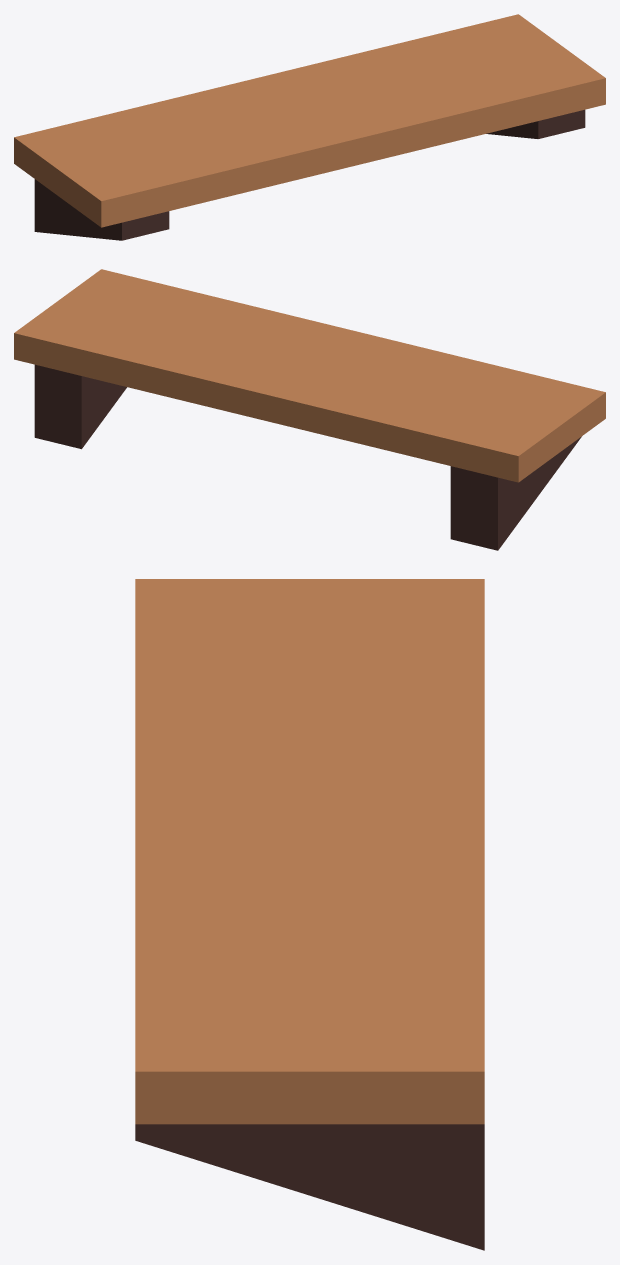
Rendered from Prop_KitchenShelf_04.fbx.
The picture shows the model from 3 angles, top to bottom: view 1: azimuth 30°, elevation 25°; view 2: azimuth 150°, elevation 25°; view 3: azimuth 270°, elevation 25°; orthographic projection. The views are drawn at different scales.
Parts seen in each view (by area): view 1: Prop_KitchenShelf_04; view 2: Prop_KitchenShelf_04; view 3: Prop_KitchenShelf_04.
Boxes of the visible parts, box(x1,y1,x2,y2) form: Prop_KitchenShelf_04: box(14, 14, 605, 240); Prop_KitchenShelf_04: box(14, 269, 605, 550); Prop_KitchenShelf_04: box(135, 579, 484, 1250).
Bounding box in the file's own units: 100 × 18.86 × 30.
